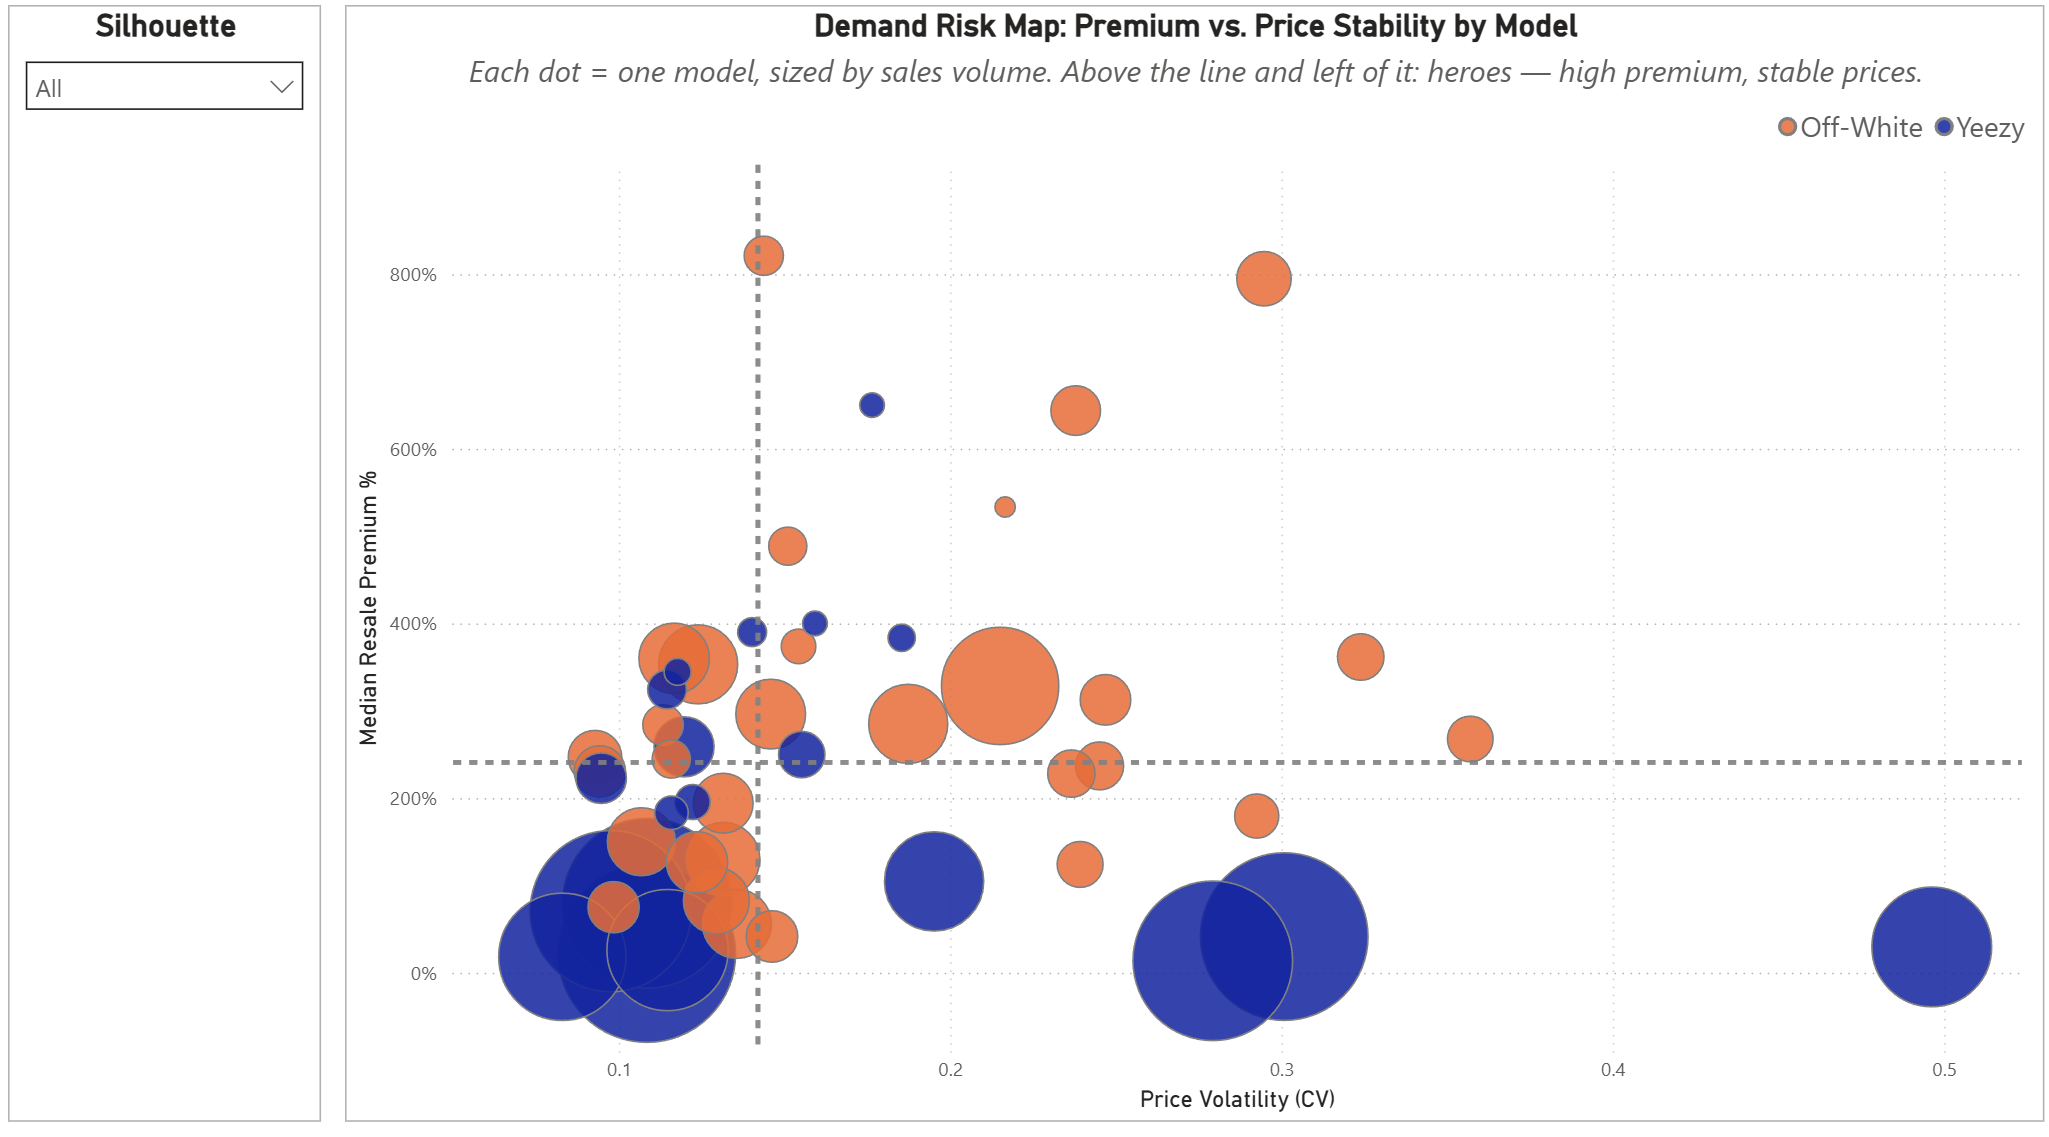

The page's visual inventory and layout, read from the dashboard file:
{"tool":"powerbi","page":{"name":"Stability Map","canvas":[1280,720],"ordinal":3},"visuals":[{"type":"scatterChart","title":"Demand Risk Map: Premium vs. Price Stability by Model","fields":{"Category":["dim_sneaker.sneaker_name"],"X":["fact_sales.Price Volatility (CV)"],"Y":["fact_sales.Median Resale Premium %"],"Size":["fact_sales.Sales Volume"],"Series":["dim_sneaker.brand"]},"box":[221.3,10,1052.7,692],"z":0},{"type":"slicer","title":"Silhouette","fields":{"Values":["dim_sneaker.silhouette"]},"box":[12.7,10,194,692],"z":1000}]}

Visuals, with their boxes in screenshot pixels (x1, y1, x2, y2), scaled from the page's 1280x720 canvas onto the 2049x1137 screenshot:
"Demand Risk Map: Premium vs. Price Stability by Model" scatterChart: rect(354, 16, 2039, 1109)
"Silhouette" slicer: rect(20, 16, 331, 1109)
